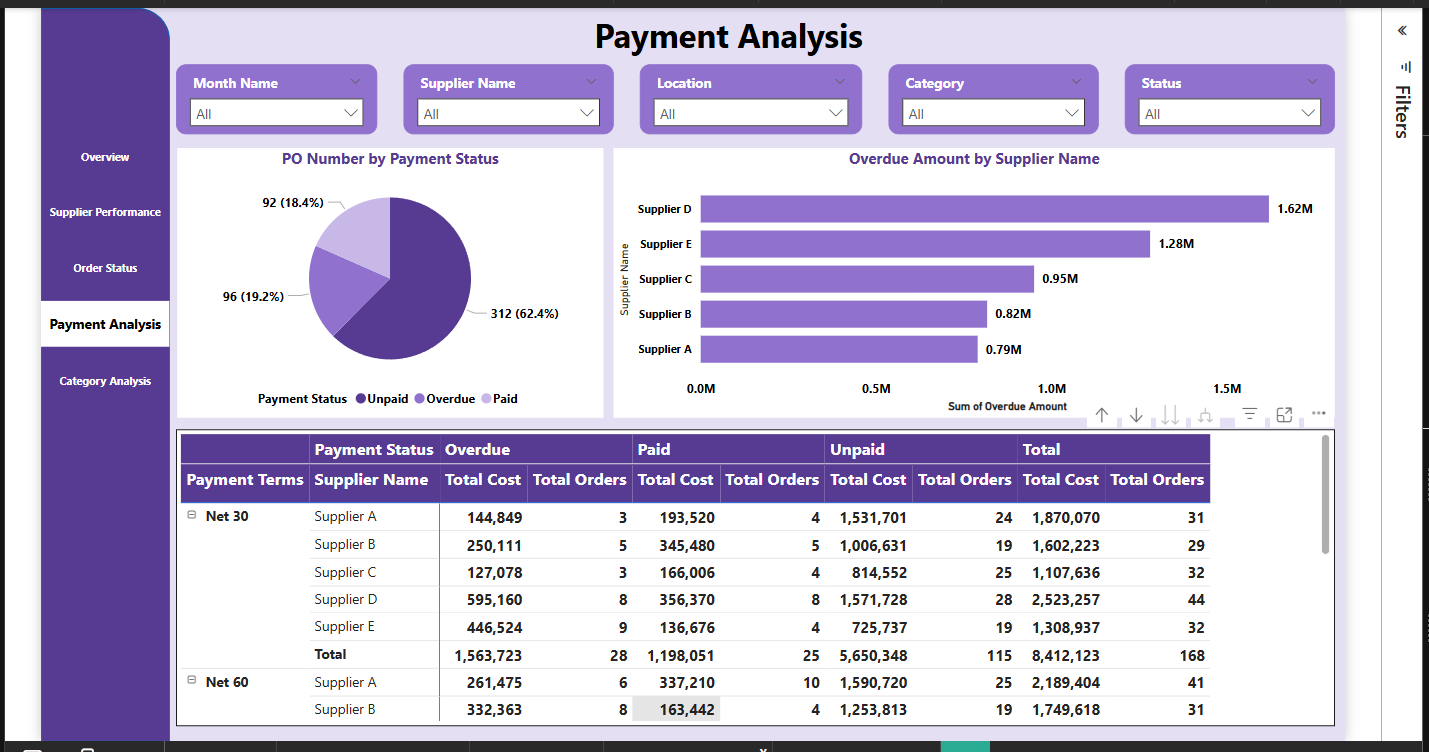

The dashboard page shown, as its layout file describes it:
{"tool":"powerbi","page":{"name":"Payment Analysis","canvas":[1280,720],"ordinal":3},"visuals":[{"type":"textbox","box":[432.8,0,483.3,54.8],"z":0},{"type":"slicer","fields":{"Values":["Calendar Table.Month Name"]},"box":[132.7,55.5,197.9,68.8],"z":1000},{"type":"slicer","fields":{"Values":["Data.Supplier Name"]},"box":[356.2,55.5,206.3,68.8],"z":2000},{"type":"slicer","fields":{"Values":["Data.Location"]},"box":[588.1,55.5,218.4,68.8],"z":3000},{"type":"slicer","fields":{"Values":["Data.Status"]},"box":[1064.1,55.5,206.3,68.8],"z":4000},{"type":"slicer","fields":{"Values":["Data.Category"]},"box":[832.1,55.5,206.3,68.8],"z":5000},{"type":"shape","box":[0,0,126.7,720.2],"z":6000},{"type":"pieChart","title":" PO Number by Payment Status","fields":{"Category":["Data.Payment Status"],"Y":["CountNonNull(Data.PO Number)"]},"box":[133.7,138,418.1,264.5],"z":7000},{"type":"barChart","title":"Overdue Amount by Supplier Name","fields":{"Category":["Data.Supplier Name"],"Y":["Sum(Data.Overdue Amount)"]},"box":[561.8,138,708.3,264.5],"z":8000},{"type":"pivotTable","fields":{"Rows":["Data.Payment Terms","Data.Supplier Name"],"Columns":["Data.Payment Status"],"Values":["Measures Calculation.Total Spend","Measures Calculation.Total Orders"]},"box":[132.3,413.9,1137.8,291.6],"z":9000},{"type":"pageNavigator","box":[0,123.2,126.1,269.3],"z":10000}]}

Visuals, with their boxes on the page's 1280x720 design canvas (x1, y1, x2, y2). These are canvas units, not pixel positions in the 1429x752 screenshot, which may show the page scaled, cropped or inside an application window:
textbox: {"x1": 433, "y1": 0, "x2": 916, "y2": 55}
slicer - Calendar Table.Month Name: {"x1": 133, "y1": 56, "x2": 331, "y2": 124}
slicer - Data.Supplier Name: {"x1": 356, "y1": 56, "x2": 562, "y2": 124}
slicer - Data.Location: {"x1": 588, "y1": 56, "x2": 806, "y2": 124}
slicer - Data.Status: {"x1": 1064, "y1": 56, "x2": 1270, "y2": 124}
slicer - Data.Category: {"x1": 832, "y1": 56, "x2": 1038, "y2": 124}
shape: {"x1": 0, "y1": 0, "x2": 127, "y2": 720}
" PO Number by Payment Status" pieChart: {"x1": 134, "y1": 138, "x2": 552, "y2": 402}
"Overdue Amount by Supplier Name" barChart: {"x1": 562, "y1": 138, "x2": 1270, "y2": 402}
pivotTable - Data.Payment Terms x Data.Supplier Name: {"x1": 132, "y1": 414, "x2": 1270, "y2": 706}
pageNavigator: {"x1": 0, "y1": 123, "x2": 126, "y2": 392}
